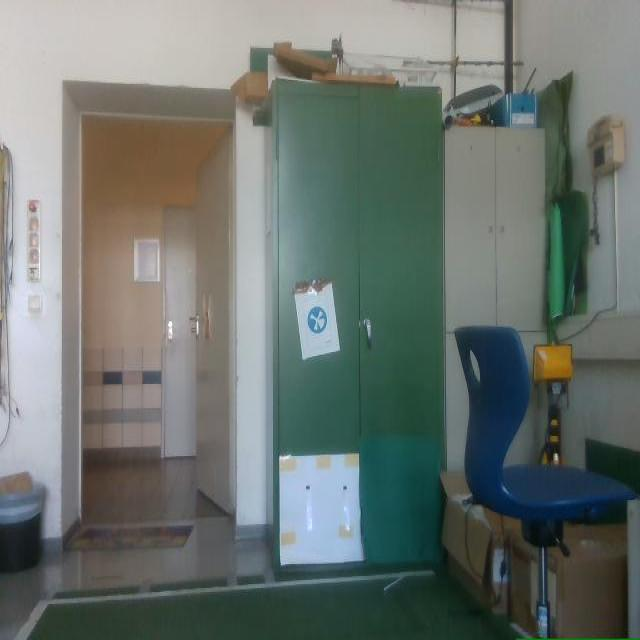objects: (455, 325, 635, 636)
